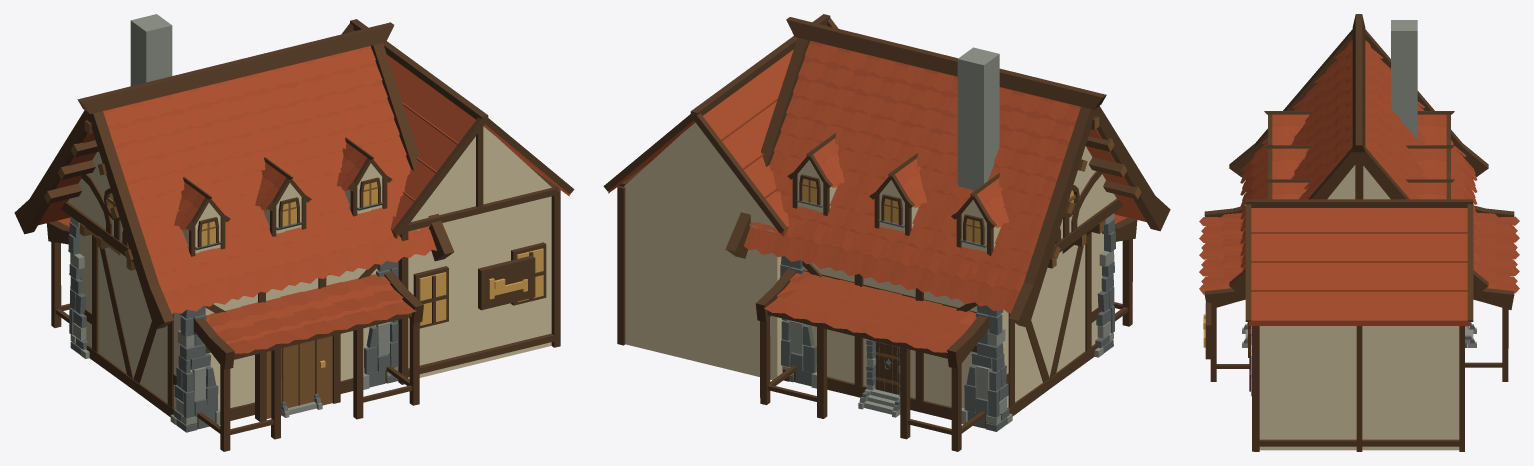
Rendered from inn.glb.
3 renders of one model, left to right at view 1: azimuth 30°, elevation 25°; view 2: azimuth 150°, elevation 25°; view 3: azimuth 270°, elevation 25°, orthographic. The views are drawn at different scales.
Parts seen in each view (by area): view 1: inn; view 2: inn; view 3: inn.
Boxes of the visible parts, x1,y1,x2,y2 form: inn: (14,14,574,451); inn: (603,14,1170,451); inn: (1199,14,1519,451).
Size of the model in its own units: 12 by 9 by 9.
